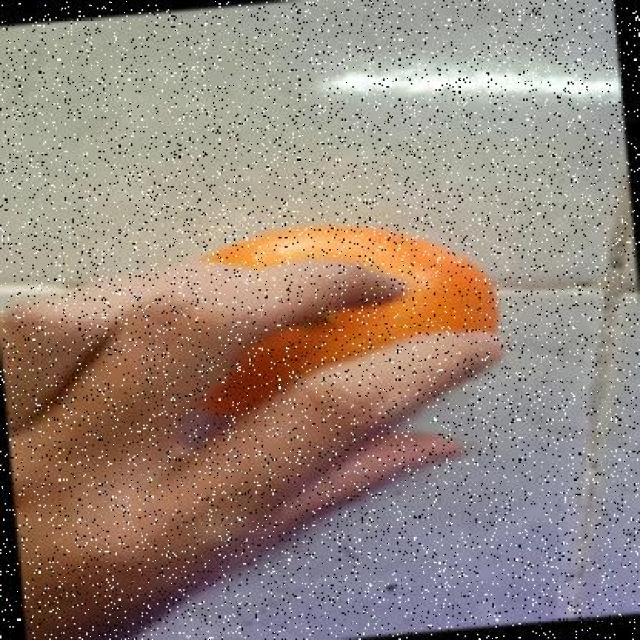Orange: (186, 222, 500, 420)
